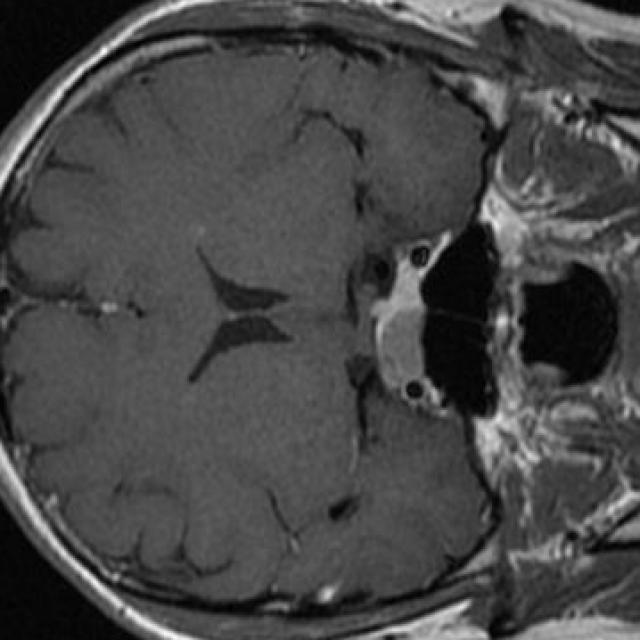pituitary: (367, 258, 428, 394)
